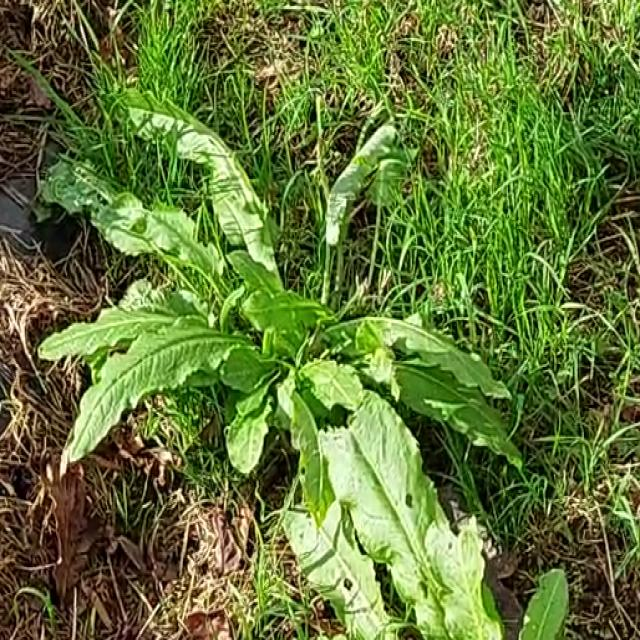organic waste: (20, 67, 533, 622)
